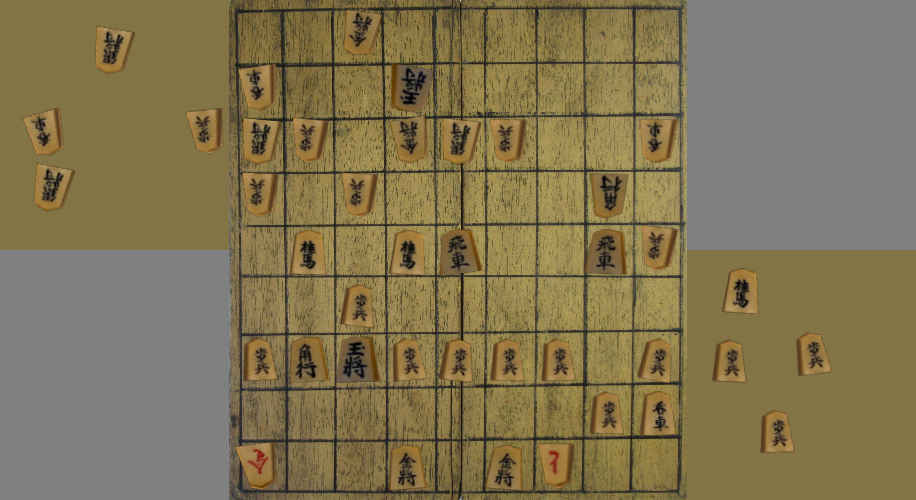A: (338, 338, 379, 382), (586, 230, 626, 274), (442, 231, 481, 275), (291, 339, 329, 381), (390, 446, 425, 490), (486, 446, 521, 490), (292, 231, 325, 274), (391, 231, 423, 274), (642, 392, 674, 435), (638, 340, 670, 382), (543, 340, 575, 381), (244, 340, 276, 380), (394, 340, 426, 380), (341, 286, 371, 327), (441, 340, 471, 381), (492, 340, 522, 380), (592, 393, 622, 433)
B: (393, 65, 431, 111), (236, 444, 274, 488), (344, 11, 380, 54), (444, 120, 480, 163), (391, 117, 425, 162), (641, 120, 677, 162), (245, 120, 279, 163), (593, 174, 627, 217), (241, 65, 274, 109), (294, 119, 328, 161), (491, 120, 525, 161), (540, 444, 572, 487), (244, 174, 277, 215), (344, 174, 376, 216), (645, 227, 676, 269)
C: (723, 269, 757, 313), (798, 333, 831, 376), (762, 411, 794, 452), (714, 341, 744, 382)
D: (24, 109, 63, 154), (35, 165, 73, 210), (97, 27, 134, 73), (187, 109, 222, 152)
